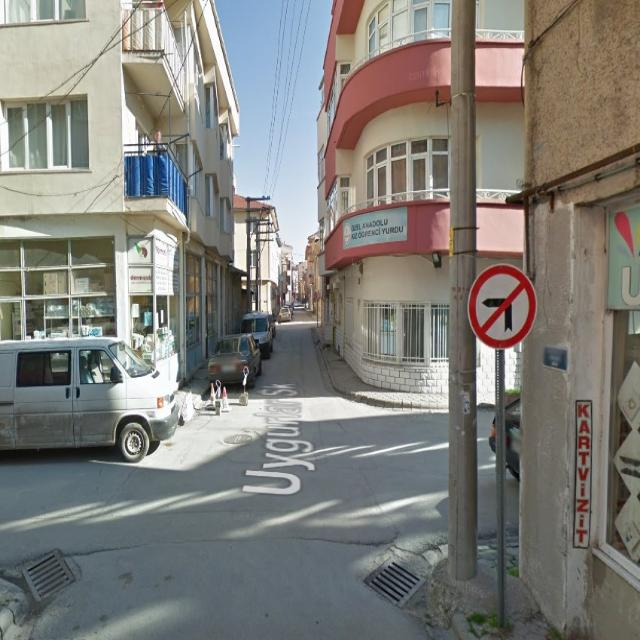soladonulmez: (468, 265, 537, 349)
